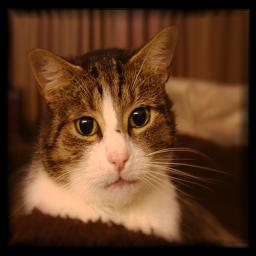catnose: (106, 150, 130, 173)
